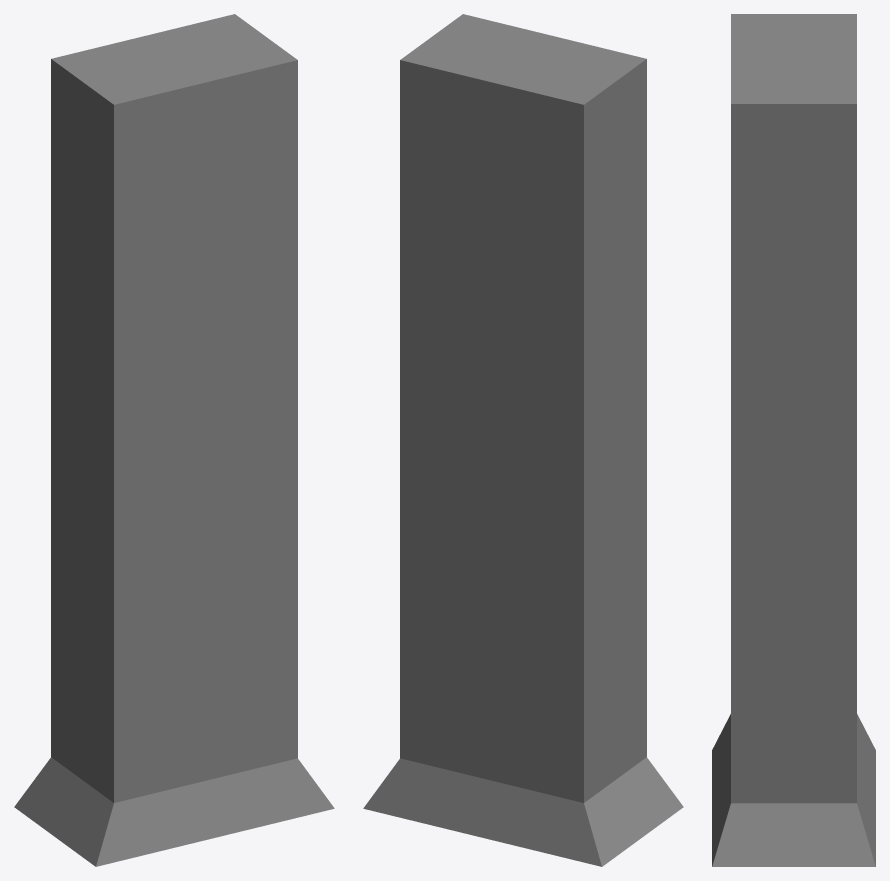
File: PS9_Mag.fbx
3 renders of one model, left to right at view 1: azimuth 30°, elevation 25°; view 2: azimuth 150°, elevation 25°; view 3: azimuth 270°, elevation 25°, orthographic.
Visible parts, largest first — view 1: PistolMag; view 2: PistolMag; view 3: PistolMag.
Part boxes in pixels (x1,y1,x2,y2): PistolMag: [14, 14, 334, 866]; PistolMag: [363, 14, 683, 866]; PistolMag: [712, 14, 875, 866].
Bounding box in the file's own units: 79.64 × 238 × 47.2.
